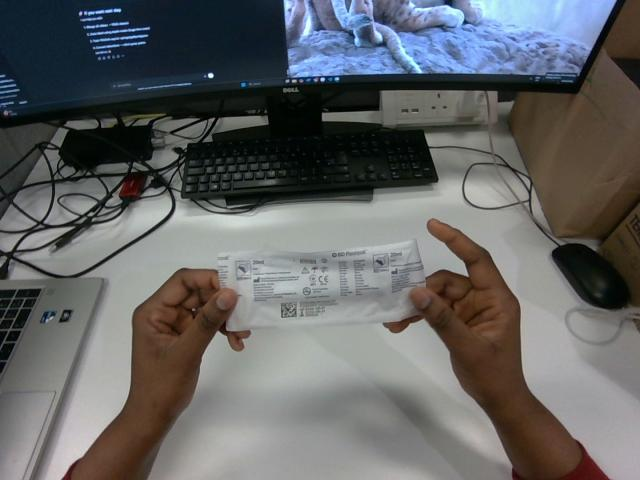syringe: (218, 240, 424, 330)
